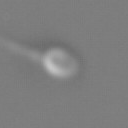normal: (1, 37, 45, 59)
